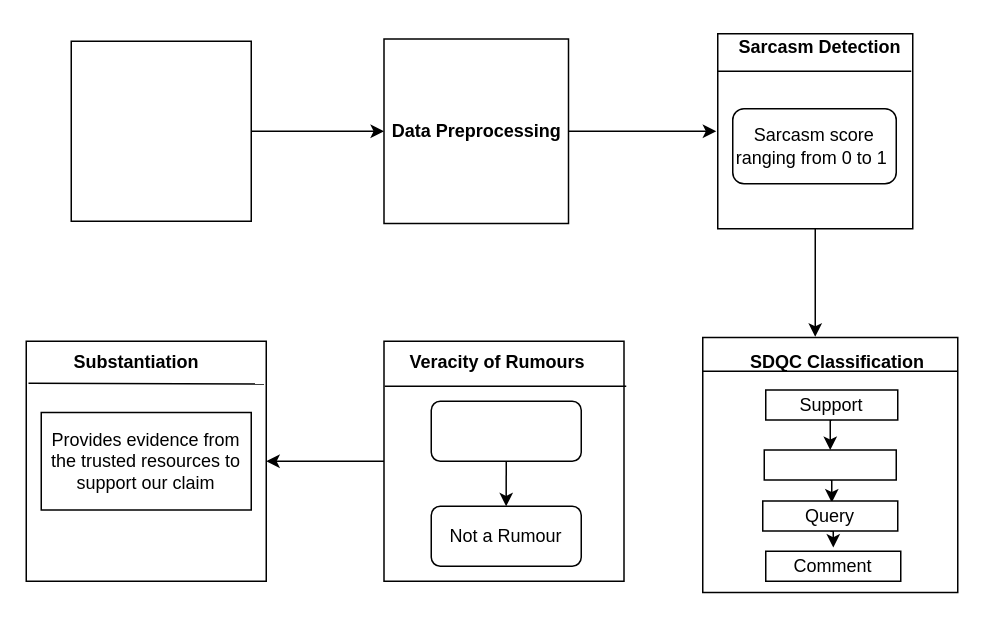
This 986x618 diagram has some shape labels left out. The centre of each missing label's shape, as x and y in pixels:
"Data Collection" goes at (x=160, y=130).
"Deny" goes at (x=829, y=464).
"Rumour" goes at (x=505, y=430).
